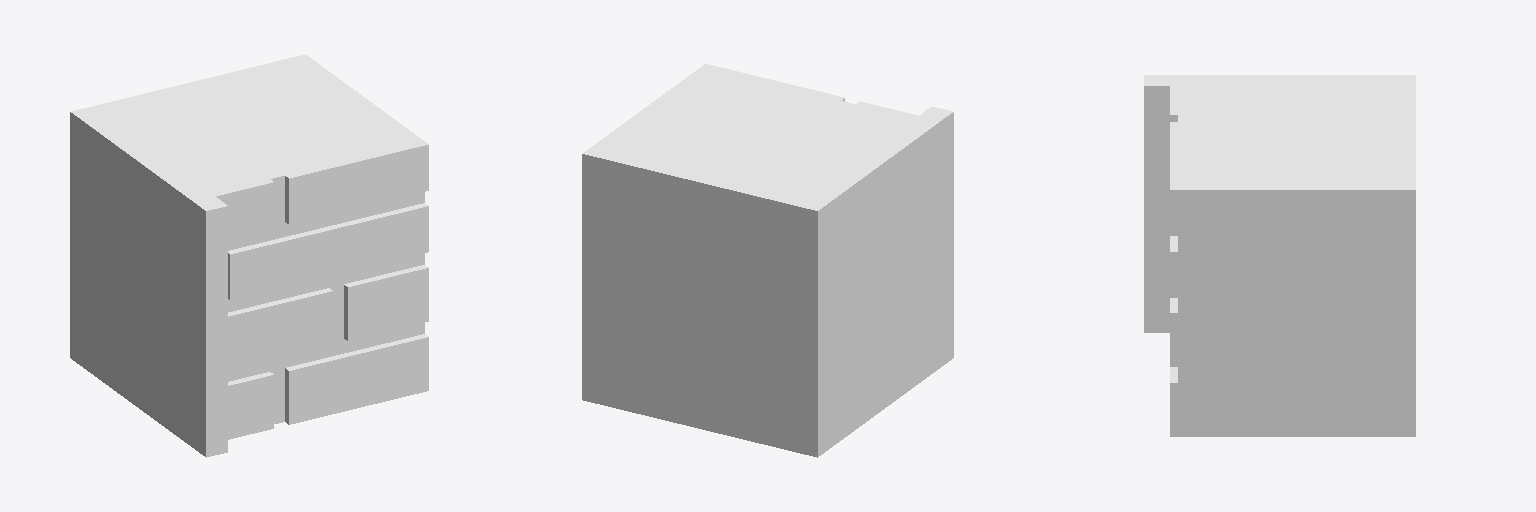
The model's file is stone_bricks-2.obj.
3 renders of one model, left to right at view 1: azimuth 30°, elevation 25°; view 2: azimuth 150°, elevation 25°; view 3: azimuth 270°, elevation 25°, orthographic.
Parts seen in each view (by area): view 1: object 1; view 2: object 1; view 3: object 1.
Part boxes in pixels (x1,y1,x2,y2): object 1: (70,54,428,457); object 1: (582,64,953,457); object 1: (1144,75,1415,436).
Bounding box in the file's own units: 3.2 × 3.2 × 3.2.